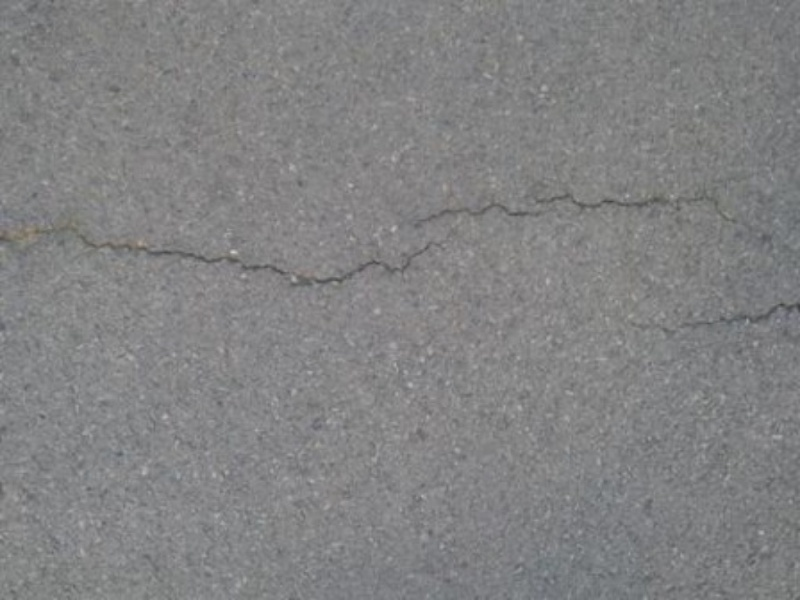crack: (9, 217, 455, 288), (399, 183, 741, 233), (642, 295, 800, 358)
